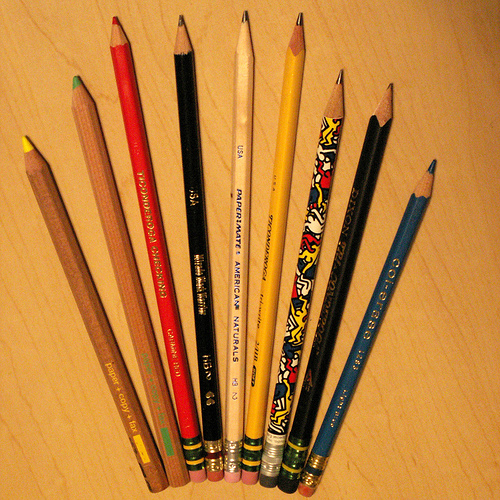pen_tip: (65, 68, 105, 136), (162, 13, 208, 70), (409, 150, 449, 213), (365, 79, 403, 142), (14, 130, 60, 182), (320, 64, 355, 128), (228, 7, 265, 64), (282, 11, 323, 62), (100, 10, 137, 59)
